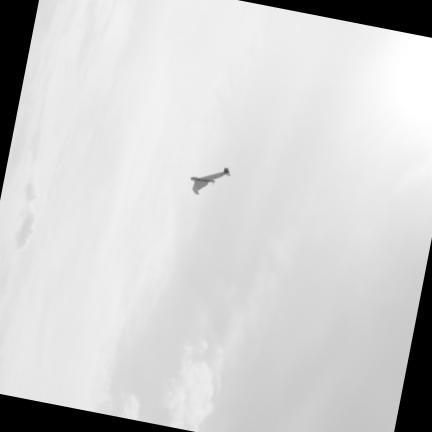Shahed: (190, 168, 228, 194)
